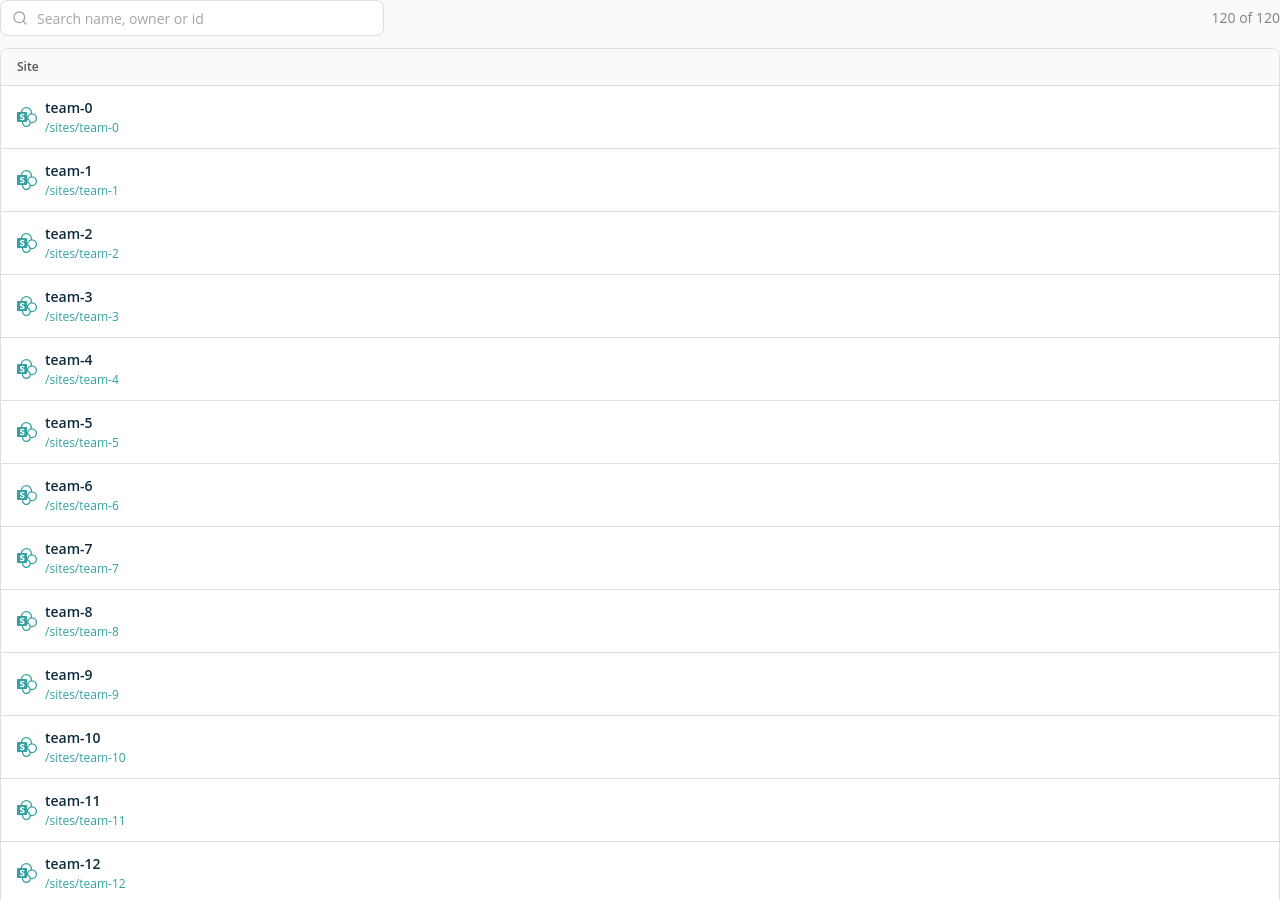
Test case: SiteTable › pagination › says so when nothing matches
The image size is (1280, 900).
Type "nobody" into the search field. click: (192, 18)
box: [0,0,384,36]
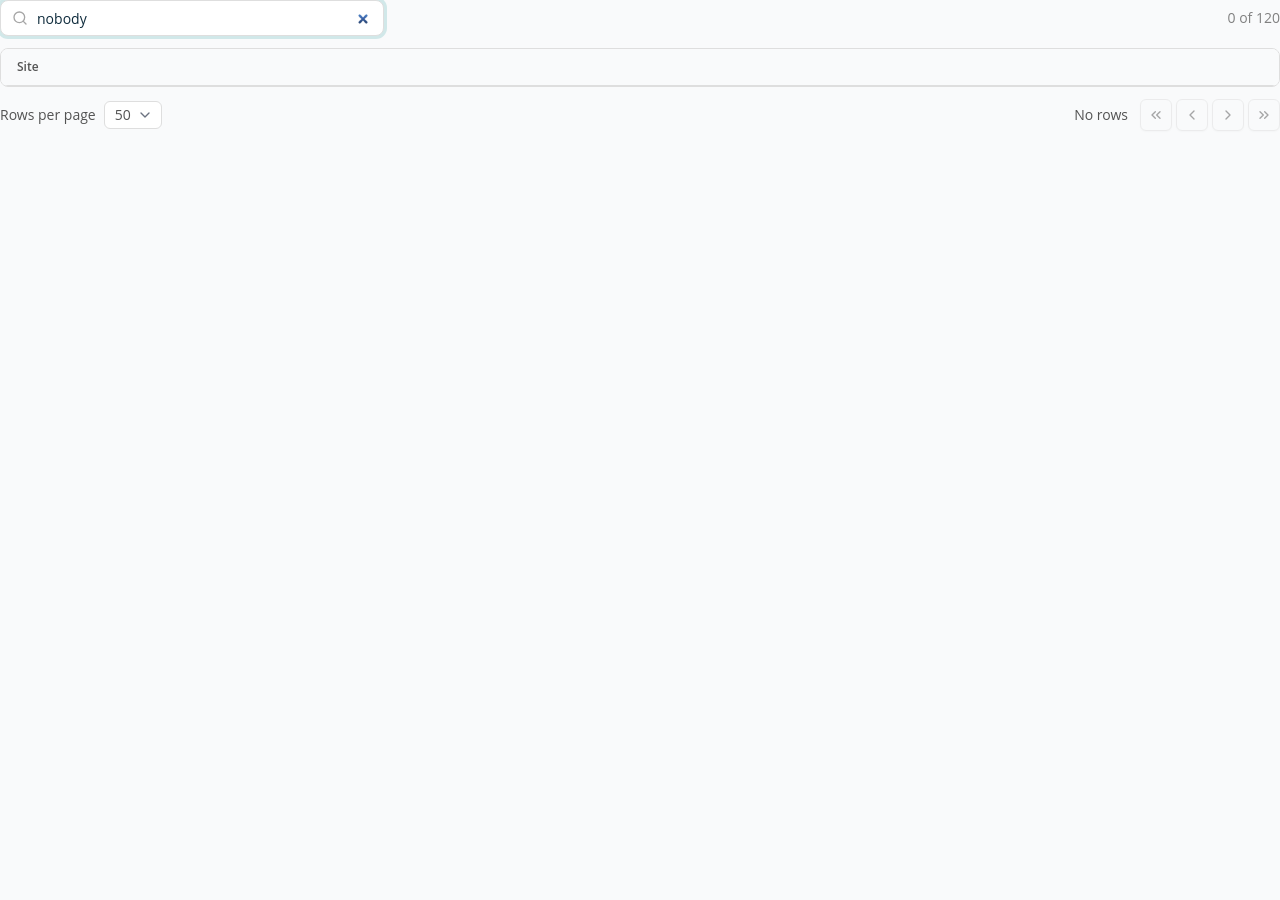
Check: the button named "Next page" is disabled, box [1212,99,1244,131]
Check: the text "No rows" is shown, box [1074,105,1128,125]
